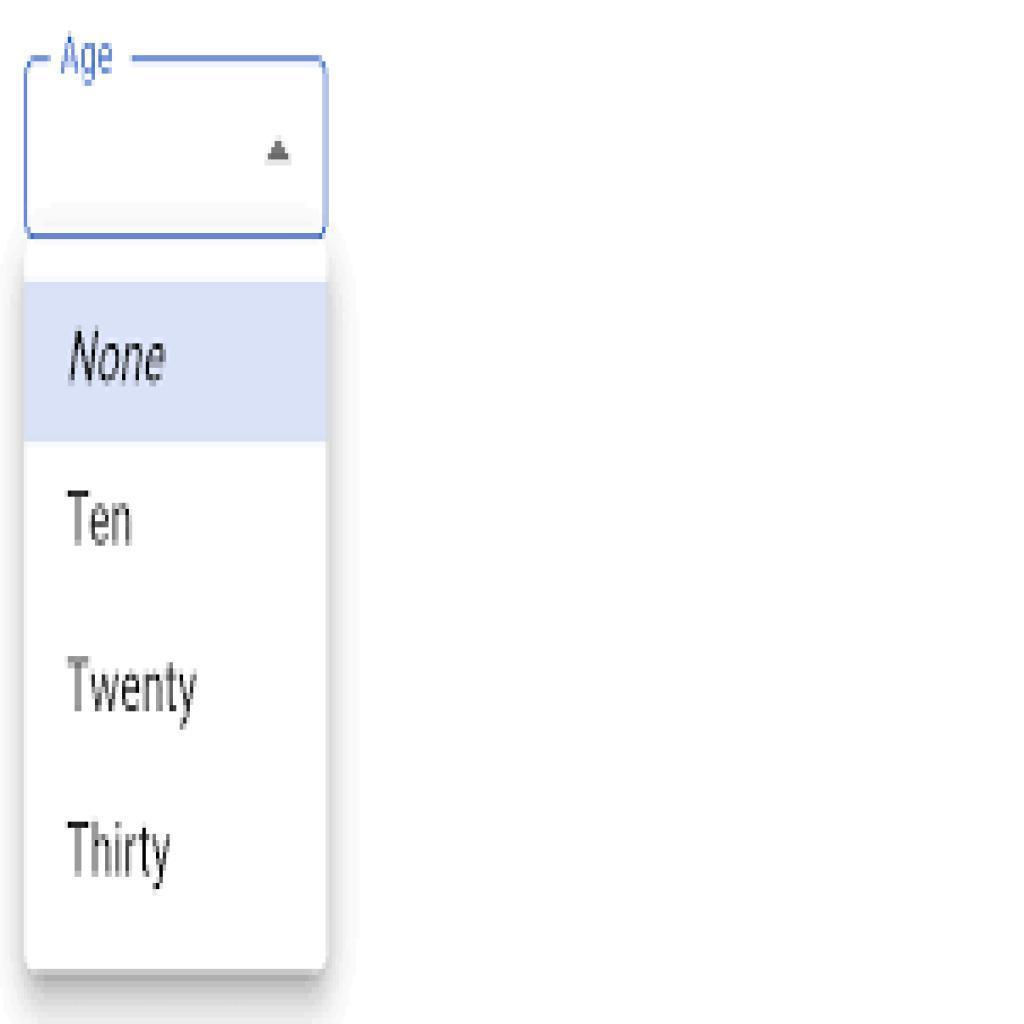dropdown: (27, 66, 327, 237)
